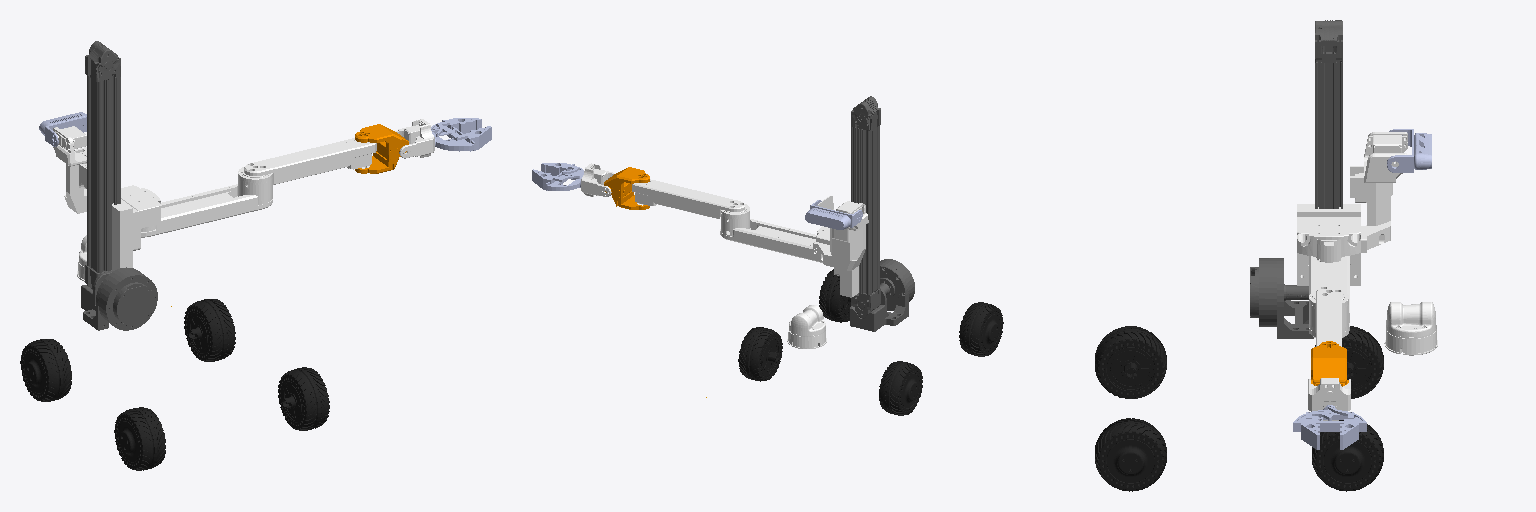
The robot description file, URDF, robot "TinyStretch":
<?xml version="1.0" encoding="utf-8"?>
<!-- This URDF was automatically created by SolidWorks to URDF Exporter! Originally created by [author] ([email redacted]) 
     Commit Version: 1.6.0-1-g15f4949  Build Version: 1.6.7594.29634
     For more information, please see http://wiki.ros.org/sw_urdf_exporter -->
<robot
  name="TinyStretch">

  <link name="base">
    <visual>
      <origin rpy="0 0 0" xyz="0 0 0"/>
      <geometry>
        <box size="0.001 0.001 0.001"/>
      </geometry>
    </visual>
  </link>
  <joint name="floating_base" type="fixed">
    <origin rpy="0 0 0" xyz="0 0 0"/>
    <parent link="base"/>
    <child link="base_link"/>
  </joint>


  <link
    name="base_link">
    <inertial>
      <origin
        xyz="-0.17459 0.08686 0.29421"
        rpy="0 0 0" />
      <mass
        value="5" />
      <inertia
        ixx="0.0069972"
        ixy="-4.771E-07"
        ixz="1.3652E-06"
        iyy="0.0098927"
        iyz="1.1128E-05"
        izz="0.0037007" />
    </inertial>
    <visual>
      <origin
        xyz="0 0 0"
        rpy="0 0 0" />
      <geometry>
        <mesh
          filename="package://TinyStretch/meshes/base_link.STL" />
      </geometry>
      <material
        name="">
        <color
          rgba="0.22353 0.22353 0.22353 1" />
      </material>
    </visual>
    <collision>
      <origin
        xyz="0 0 0"
        rpy="0 0 0" />
      <geometry>
        <mesh
          filename="package://TinyStretch/meshes/base_link.STL" />
      </geometry>
    </collision>
  </link>
  <link
    name="w0_link">
    <inertial>
      <origin
        xyz="-1.09194227745912E-06 0.0239649420885343 6.01895652485585E-08"
        rpy="0 0 0" />
      <mass
        value="0.315279382810749" />
      <inertia
        ixx="0.000221131428077565"
        ixy="-1.44780002797026E-08"
        ixz="2.82948550163743E-09"
        iyy="0.000357094314967816"
        iyz="3.19484227881232E-10"
        izz="0.000221131635262804" />
    </inertial>
    <visual>
      <origin
        xyz="0 0 0"
        rpy="0 0 0" />
      <geometry>
        <mesh
          filename="package://TinyStretch/meshes/w0_link.STL" />
      </geometry>
      <material
        name="">
        <color
          rgba="0.184313725490196 0.184313725490196 0.184313725490196 1" />
      </material>
    </visual>
    <collision>
      <origin
        xyz="0 0 0"
        rpy="0 0 0" />
      <geometry>
        <mesh
          filename="package://TinyStretch/meshes/w0_link.STL" />
      </geometry>
    </collision>
  </link>
  <joint
    name="w0_joint"
    type="continuous">
    <origin
      xyz="-0.30277 -0.16312 0.029366"
      rpy="0 0 1.5708" />
    <parent
      link="base_link" />
    <child
      link="w0_link" />
    <axis
      xyz="0 -1 0" />
  </joint>
  <link
    name="w1_link">
    <inertial>
      <origin
        xyz="1.09190834343686E-06 -0.0239649422267602 6.02207660092835E-08"
        rpy="0 0 0" />
      <mass
        value="0.315279384775034" />
      <inertia
        ixx="0.000221131431538734"
        ixy="-1.44770078643538E-08"
        ixz="-2.83045642902681E-09"
        iyy="0.000357094317619838"
        iyz="-3.18280547521333E-10"
        izz="0.000221131635280463" />
    </inertial>
    <visual>
      <origin
        xyz="0 0 0"
        rpy="0 0 0" />
      <geometry>
        <mesh
          filename="package://TinyStretch/meshes/w1_link.STL" />
      </geometry>
      <material
        name="">
        <color
          rgba="0.184313725490196 0.184313725490196 0.184313725490196 1" />
      </material>
    </visual>
    <collision>
      <origin
        xyz="0 0 0"
        rpy="0 0 0" />
      <geometry>
        <mesh
          filename="package://TinyStretch/meshes/w1_link.STL" />
      </geometry>
    </collision>
  </link>
  <joint
    name="w1_joint"
    type="continuous">
    <origin
      xyz="-0.0464600532045351 -0.163116680949055 0.0293663622330227"
      rpy="0 0 1.5707963267949" />
    <parent
      link="base_link" />
    <child
      link="w1_link" />
    <axis
      xyz="0 1 0" />
  </joint>
  <link
    name="w2_link">
    <inertial>
      <origin
        xyz="-1.09169906881146E-06 0.0239649424984497 5.94725904530524E-08"
        rpy="0 0 0" />
      <mass
        value="0.315279389418188" />
      <inertia
        ixx="0.000221131439374369"
        ixy="-1.44788844108911E-08"
        ixz="2.83195035007398E-09"
        iyy="0.000357094323623722"
        iyz="3.217954679863E-10"
        izz="0.000221131635933034" />
    </inertial>
    <visual>
      <origin
        xyz="0 0 0"
        rpy="0 0 0" />
      <geometry>
        <mesh
          filename="package://TinyStretch/meshes/w2_link.STL" />
      </geometry>
      <material
        name="">
        <color
          rgba="0.184313725490196 0.184313725490196 0.184313725490196 1" />
      </material>
    </visual>
    <collision>
      <origin
        xyz="0 0 0"
        rpy="0 0 0" />
      <geometry>
        <mesh
          filename="package://TinyStretch/meshes/w2_link.STL" />
      </geometry>
    </collision>
  </link>
  <joint
    name="w2_joint"
    type="continuous">
    <origin
      xyz="-0.302765422216943 -0.464836398310567 0.0293663622330201"
      rpy="0 0 1.5707963267949" />
    <parent
      link="base_link" />
    <child
      link="w2_link" />
    <axis
      xyz="0 -1 0" />
  </joint>
  <link
    name="w3_link">
    <inertial>
      <origin
        xyz="1.09190834318706E-06 -0.02396494222676 6.02207661515308E-08"
        rpy="0 0 0" />
      <mass
        value="0.315279384775031" />
      <inertia
        ixx="0.000221131431538733"
        ixy="-1.4477007864181E-08"
        ixz="-2.83045643068712E-09"
        iyy="0.000357094317619835"
        iyz="-3.18280547665599E-10"
        izz="0.00022113163528046" />
    </inertial>
    <visual>
      <origin
        xyz="0 0 0"
        rpy="0 0 0" />
      <geometry>
        <mesh
          filename="package://TinyStretch/meshes/w3_link.STL" />
      </geometry>
      <material
        name="">
        <color
          rgba="0.184313725490196 0.184313725490196 0.184313725490196 1" />
      </material>
    </visual>
    <collision>
      <origin
        xyz="0 0 0"
        rpy="0 0 0" />
      <geometry>
        <mesh
          filename="package://TinyStretch/meshes/w3_link.STL" />
      </geometry>
    </collision>
  </link>
  <joint
    name="w3_joint"
    type="continuous">
    <origin
      xyz="-0.04646 -0.46484 0.029366"
      rpy="0 0 1.5708" />
    <parent
      link="base_link" />
    <child
      link="w3_link" />
    <axis
      xyz="0 1 0" />
  </joint>
  <link
    name="arm_up_link">
    <inertial>
      <origin
        xyz="-0.0462241234896398 -0.00197007925517431 0.0962405119170406"
        rpy="0 0 0" />
      <mass
        value="0.779952827362442" />
      <inertia
        ixx="0.00419487475274371"
        ixy="-4.32817680860962E-07"
        ixz="3.49232712212363E-05"
        iyy="0.0041239954769118"
        iyz="-2.39245002555576E-07"
        izz="0.000436914424300072" />
    </inertial>
    <visual>
      <origin
        xyz="0 0 0"
        rpy="0 0 0" />
      <geometry>
        <mesh
          filename="package://TinyStretch/meshes/arm_up_link.STL" />
      </geometry>
      <material
        name="">
        <color
          rgba="0.43921568627451 0.43921568627451 0.43921568627451 1" />
      </material>
    </visual>
    <collision>
      <origin
        xyz="0 0 0"
        rpy="0 0 0" />
      <geometry>
        <mesh
          filename="package://TinyStretch/meshes/arm_up_link.STL" />
      </geometry>
    </collision>
  </link>
  <joint
    name="arm_up_joint"
    type="fixed">
    <origin
      xyz="-0.23845 -0.17051 0.17775"
      rpy="0 0 1.5708" />
    <parent
      link="base_link" />
    <child
      link="arm_up_link" />
    <axis
      xyz="0 0 0" />
  </joint>
  <link
    name="arm_base_link">
    <inertial>
      <origin
        xyz="0.0230339333077933 0.0468527238148121 -0.016101610527142"
        rpy="0 0 0" />
      <mass
        value="0.563791232660152" />
      <inertia
        ixx="0.000550162074526023"
        ixy="-9.13800924073317E-06"
        ixz="5.82510742155865E-06"
        iyy="0.000705595152739619"
        iyz="-1.29638845646991E-05"
        izz="0.000476715767910123" />
    </inertial>
    <visual>
      <origin
        xyz="0 0 0"
        rpy="0 0 0" />
      <geometry>
        <mesh
          filename="package://TinyStretch/meshes/arm_base_link.STL" />
      </geometry>
      <material
        name="">
        <color
          rgba="1 1 1 1" />
      </material>
    </visual>
    <collision>
      <origin
        xyz="0 0 0"
        rpy="0 0 0" />
      <geometry>
        <mesh
          filename="package://TinyStretch/meshes/arm_base_link.STL" />
      </geometry>
    </collision>
  </link>
  <joint
    name="arm_base_joint"
    type="prismatic">
    <origin
      xyz="-0.018571 -0.074764 0.12691"
      rpy="0 0 0" />
    <parent
      link="arm_up_link" />
    <child
      link="arm_base_link" />
    <axis
      xyz="0 0 1" />
    <limit
      lower="0"
      upper="0.23"
      effort="5"
      velocity="0.3" />
  </joint>
  <link
    name="head0_link">
    <inertial>
      <origin
        xyz="0.0102795679074752 0.00746085002566058 0.0252557122748365"
        rpy="0 0 0" />
      <mass
        value="0.0695555105223002" />
      <inertia
        ixx="4.76847991278306E-05"
        ixy="8.69176759399372E-07"
        ixz="-2.41822820084567E-06"
        iyy="2.11016358999069E-05"
        iyz="2.7929205957095E-06"
        izz="5.3881861494381E-05" />
    </inertial>
    <visual>
      <origin
        xyz="0 0 0"
        rpy="0 0 0" />
      <geometry>
        <mesh
          filename="package://TinyStretch/meshes/head0_link.STL" />
      </geometry>
      <material
        name="">
        <color
          rgba="1 1 1 1" />
      </material>
    </visual>
    <collision>
      <origin
        xyz="0 0 0"
        rpy="0 0 0" />
      <geometry>
        <mesh
          filename="package://TinyStretch/meshes/head0_link.STL" />
      </geometry>
    </collision>
  </link>
  <joint
    name="head0_joint"
    type="revolute">
    <origin
      xyz="0.066967 0.068038 0.05766"
      rpy="0 0 0" />
    <parent
      link="arm_base_link" />
    <child
      link="head0_link" />
    <axis
      xyz="0 0 -1" />
    <limit
      lower="-1.57"
      upper="1.57"
      effort="5"
      velocity="2" />
  </joint>
  <link
    name="head1_link">
    <inertial>
      <origin
        xyz="-0.046457551359095 -0.0337641760376069 -0.000509428025643022"
        rpy="0 0 0" />
      <mass
        value="0.0583683286626" />
      <inertia
        ixx="6.17055561783429E-06"
        ixy="-2.84018407915567E-08"
        ixz="-3.87164294125998E-09"
        iyy="4.43443950217523E-05"
        iyz="1.11420201000267E-09"
        izz="4.5164988714502E-05" />
    </inertial>
    <visual>
      <origin
        xyz="0 0 0"
        rpy="0 0 0" />
      <geometry>
        <mesh
          filename="package://TinyStretch/meshes/head1_link.STL" />
      </geometry>
      <material
        name="">
        <color
          rgba="0.792156862745098 0.819607843137255 0.933333333333333 1" />
      </material>
    </visual>
    <collision>
      <origin
        xyz="0 0 0"
        rpy="0 0 0" />
      <geometry>
        <mesh
          filename="package://TinyStretch/meshes/head1_link.STL" />
      </geometry>
    </collision>
  </link>
  <joint
    name="head1_joint"
    type="revolute">
    <origin
      xyz="0.025055 0.043831 0.036963"
      rpy="0 0 1.5708" />
    <parent
      link="head0_link" />
    <child
      link="head1_link" />
    <axis
      xyz="-1 0 0" />
    <limit
      lower="-0.85"
      upper="0.6"
      effort="5"
      velocity="2" />
  </joint>
  <link
    name="arm0_link">
    <inertial>
      <origin
        xyz="-0.00347118599498991 -3.15184501778476E-05 0.114054429270132"
        rpy="0 0 0" />
      <mass
        value="0.304945958365602" />
      <inertia
        ixx="0.00111803954047033"
        ixy="-4.31180088576853E-09"
        ixz="-3.17581305751002E-06"
        iyy="0.00104538133328087"
        iyz="5.36307385602601E-10"
        izz="0.000105222620502007" />
    </inertial>
    <visual>
      <origin
        xyz="0 0 0"
        rpy="0 0 0" />
      <geometry>
        <mesh
          filename="package://TinyStretch/meshes/arm0_link.STL" />
      </geometry>
      <material
        name="">
        <color
          rgba="1 1 1 1" />
      </material>
    </visual>
    <collision>
      <origin
        xyz="0 0 0"
        rpy="0 0 0" />
      <geometry>
        <mesh
          filename="package://TinyStretch/meshes/arm0_link.STL" />
      </geometry>
    </collision>
  </link>
  <joint
    name="arm0_joint"
    type="revolute">
    <origin
      xyz="0 0 -0.0459"
      rpy="1.5708 1.5708 0" />
    <parent
      link="arm_base_link" />
    <child
      link="arm0_link" />
    <axis
      xyz="-1 0 0" />
    <limit
      lower="-1.57"
      upper="1.57"
      effort="10"
      velocity="3" />
  </joint>
  <link
    name="arm1_link">
    <inertial>
      <origin
        xyz="7.78997245312607E-06 -0.00543045767371764 0.108611482367265"
        rpy="0 0 0" />
      <mass
        value="0.179423889925194" />
      <inertia
        ixx="0.00049340842467727"
        ixy="-4.96395858021224E-09"
        ixz="-8.2901945949375E-08"
        iyy="0.000503793524710836"
        iyz="1.27227915596747E-07"
        izz="3.35188448836816E-05" />
    </inertial>
    <visual>
      <origin
        xyz="0 0 0"
        rpy="0 0 0" />
      <geometry>
        <mesh
          filename="package://TinyStretch/meshes/arm1_link.STL" />
      </geometry>
      <material
        name="">
        <color
          rgba="1 1 1 1" />
      </material>
    </visual>
    <collision>
      <origin
        xyz="0 0 0"
        rpy="0 0 0" />
      <geometry>
        <mesh
          filename="package://TinyStretch/meshes/arm1_link.STL" />
      </geometry>
    </collision>
  </link>
  <joint
    name="arm1_joint"
    type="revolute">
    <origin
      xyz="-0.046 0 0.21"
      rpy="0 0 1.5708" />
    <parent
      link="arm0_link" />
    <child
      link="arm1_link" />
    <axis
      xyz="0 1 0" />
    <limit
      lower="0"
      upper="2.7"
      effort="10"
      velocity="3" />
  </joint>
  <link
    name="arm2_link">
    <inertial>
      <origin
        xyz="-0.020120222192106 0.0308892330453639 -0.000142965764577313"
        rpy="0 0 0" />
      <mass
        value="0.0980521368758784" />
      <inertia
        ixx="4.22455880538882E-05"
        ixy="3.45087866268331E-06"
        ixz="2.98719439586652E-07"
        iyy="2.25571672882411E-05"
        iyz="-2.49758128419671E-07"
        izz="3.19823075478051E-05" />
    </inertial>
    <visual>
      <origin
        xyz="0 0 0"
        rpy="0 0 0" />
      <geometry>
        <mesh
          filename="package://TinyStretch/meshes/arm2_link.STL" />
      </geometry>
      <material
        name="">
        <color
          rgba="1 0.6 0 1" />
      </material>
    </visual>
    <collision>
      <origin
        xyz="0 0 0"
        rpy="0 0 0" />
      <geometry>
        <mesh
          filename="package://TinyStretch/meshes/arm2_link.STL" />
      </geometry>
    </collision>
  </link>
  <joint
    name="arm2_joint"
    type="revolute">
    <origin
      xyz="2.9282E-05 0.0088 0.20095"
      rpy="1.5708 0 1.5708" />
    <parent
      link="arm1_link" />
    <child
      link="arm2_link" />
    <axis
      xyz="-1 0 0" />
    <limit
      lower="-1.9"
      upper="1.9"
      effort="10"
      velocity="3" />
  </joint>
  <link
    name="arm3_link">
    <inertial>
      <origin
        xyz="0.0378614341217498 -0.000880743243431903 -0.0260096517576764"
        rpy="0 0 0" />
      <mass
        value="0.0701150632473082" />
      <inertia
        ixx="2.85886031669487E-05"
        ixy="1.13914110634963E-07"
        ixz="1.37861343880548E-08"
        iyy="2.83433374672963E-05"
        iyz="-4.08961931990006E-09"
        izz="1.84022487213624E-05" />
    </inertial>
    <visual>
      <origin
        xyz="0 0 0"
        rpy="0 0 0" />
      <geometry>
        <mesh
          filename="package://TinyStretch/meshes/arm3_link.STL" />
      </geometry>
      <material
        name="">
        <color
          rgba="1 1 1 1" />
      </material>
    </visual>
    <collision>
      <origin
        xyz="0 0 0"
        rpy="0 0 0" />
      <geometry>
        <mesh
          filename="package://TinyStretch/meshes/arm3_link.STL" />
      </geometry>
    </collision>
  </link>
  <joint
    name="arm3_joint"
    type="revolute">
    <origin
      xyz="-0.02455 0.062411 0.027072"
      rpy="0 0 1.5708" />
    <parent
      link="arm2_link" />
    <child
      link="arm3_link" />
    <axis
      xyz="0 0 -1" />
    <limit
      lower="-1.57"
      upper="1.57"
      effort="10"
      velocity="3" />
  </joint>
  <link
    name="arm4_link">
    <inertial>
      <origin
        xyz="0.0575769201806073 -0.000955133770654537 4.26827065894142E-05"
        rpy="0 0 0" />
      <mass
        value="0.0627105561340356" />
      <inertia
        ixx="4.69838111630794E-05"
        ixy="-1.40377278488317E-06"
        ixz="6.39473133862229E-07"
        iyy="3.87616730398487E-05"
        iyz="-3.2262145486781E-08"
        izz="8.16323737141362E-05" />
    </inertial>
    <visual>
      <origin
        xyz="0 0 0"
        rpy="0 0 0" />
      <geometry>
        <mesh
          filename="package://TinyStretch/meshes/arm4_link.STL" />
      </geometry>
      <material
        name="">
        <color
          rgba="0.792156862745098 0.819607843137255 0.933333333333333 1" />
      </material>
    </visual>
    <collision>
      <origin
        xyz="0 0 0"
        rpy="0 0 0" />
      <geometry>
        <mesh
          filename="package://TinyStretch/meshes/arm4_link.STL" />
      </geometry>
    </collision>
  </link>
  <joint
    name="arm4_joint"
    type="revolute">
    <origin
      xyz="0.058117 0.0086359 -0.025821"
      rpy="1.5708 0 0" />
    <parent
      link="arm3_link" />
    <child
      link="arm4_link" />
    <axis
      xyz="-1 0 0" />
    <limit
      lower="-1.57"
      upper="1.57"
      effort="10"
      velocity="3" />
  </joint>
  <link
    name="lidar_link">
    <inertial>
      <origin
        xyz="0 0 0"
        rpy="0 0 0" />
      <mass
        value="0" />
      <inertia
        ixx="0"
        ixy="0"
        ixz="0"
        iyy="0"
        iyz="0"
        izz="0" />
    </inertial>
    <visual>
      <origin
        xyz="0 0 0"
        rpy="0 0 0" />
      <geometry>
        <mesh
          filename="package://TinyStretch/meshes/lidar_link.STL" />
      </geometry>
      <material
        name="">
        <color
          rgba="1 1 1 1" />
      </material>
    </visual>
    <collision>
      <origin
        xyz="0 0 0"
        rpy="0 0 0" />
      <geometry>
        <mesh
          filename="package://TinyStretch/meshes/lidar_link.STL" />
      </geometry>
    </collision>
  </link>
  <joint
    name="lidar_joint"
    type="fixed">
    <origin
      xyz="-0.17493913902624 -0.0753634572503047 0.128221215342395"
      rpy="0 0 1.5707963267949" />
    <parent
      link="base_link" />
    <child
      link="lidar_link" />
    <axis
      xyz="0 0 0" />
  </joint>
</robot>

--- What the picture shows (computed from the rendered views, not written in the file) ---
The picture shows the robot from 3 angles, left to right: view 1: azimuth 30°, elevation 25°; view 2: azimuth 150°, elevation 25°; view 3: azimuth 270°, elevation 25°; orthographic projection.
Model TinyStretch with 16 links and 15 joints (7 revolute, 4 continuous, 1 prismatic, 3 fixed), rooted at base, posed all joints at 0.
Links seen in each view (by area): view 1: arm_up_link, arm0_link, arm_base_link, arm1_link, w2_link, w1_link, w3_link, w0_link, arm4_link, arm2_link, arm3_link, head0_link (+1 smaller); view 2: arm_up_link, arm0_link, arm_base_link, arm1_link, w2_link, w0_link, w1_link, lidar_link, arm4_link, arm2_link, w3_link, head1_link (+2 smaller); view 3: arm_up_link, arm_base_link, w3_link, w2_link, w1_link, lidar_link, w0_link, arm4_link, arm0_link, head0_link, arm1_link, arm2_link (+2 smaller).
Boxes of the visible links, x1,y1,x2,y2 form: arm_up_link: (81, 41, 157, 330); arm0_link: (141, 167, 272, 237); arm_base_link: (64, 164, 160, 270); arm1_link: (244, 138, 376, 184); w2_link: (114, 407, 165, 470); w1_link: (184, 299, 235, 361); w3_link: (278, 367, 329, 430); w0_link: (20, 339, 71, 401); arm4_link: (431, 118, 491, 151); arm2_link: (355, 124, 408, 173); arm3_link: (395, 119, 434, 158); head0_link: (53, 126, 86, 166); arm_up_link: (850, 96, 914, 331); arm0_link: (720, 204, 822, 262); arm_base_link: (813, 225, 865, 297); arm1_link: (632, 179, 744, 218); w2_link: (959, 302, 1003, 356); w0_link: (879, 361, 922, 415); w1_link: (738, 327, 782, 381); lidar_link: (787, 305, 826, 348); arm4_link: (532, 163, 583, 190); arm2_link: (604, 167, 649, 209); w3_link: (819, 269, 850, 322); head1_link: (805, 200, 862, 229); arm_up_link: (1250, 20, 1342, 338); arm_base_link: (1297, 166, 1392, 285); w3_link: (1095, 418, 1166, 491); w2_link: (1095, 326, 1166, 398); w1_link: (1312, 420, 1383, 491); lidar_link: (1384, 302, 1437, 355); w0_link: (1315, 326, 1383, 398); arm4_link: (1293, 405, 1366, 449); arm0_link: (1309, 256, 1349, 337); head0_link: (1364, 132, 1407, 182); arm1_link: (1316, 286, 1341, 346); arm2_link: (1311, 341, 1348, 386).
Bounding box of the posed robot: 0.8296 × 0.5157 × 0.6156 m (x, y, z).
Meshes: 15 distinct files referenced, 14 mesh visuals loaded (14 binary STL); not drawn: 1 (reference not matched to a file when rendering).